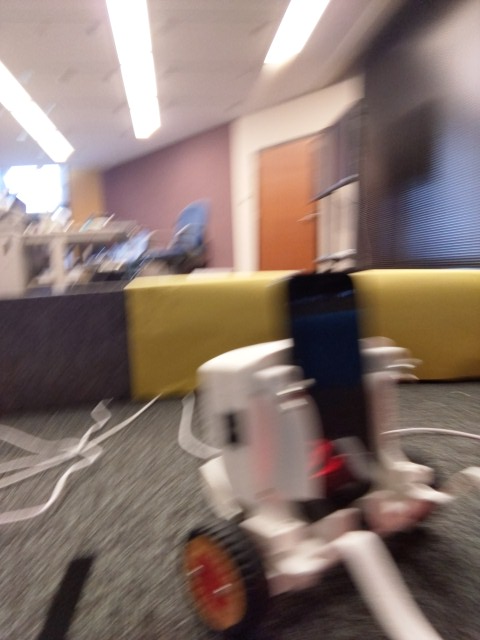br: (159, 279, 480, 640)
